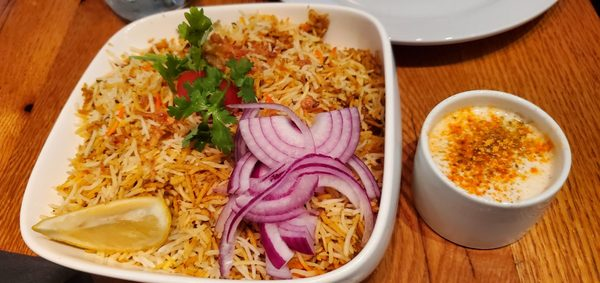sushi: (14, 3, 406, 281), (212, 78, 397, 280), (412, 90, 573, 251)
